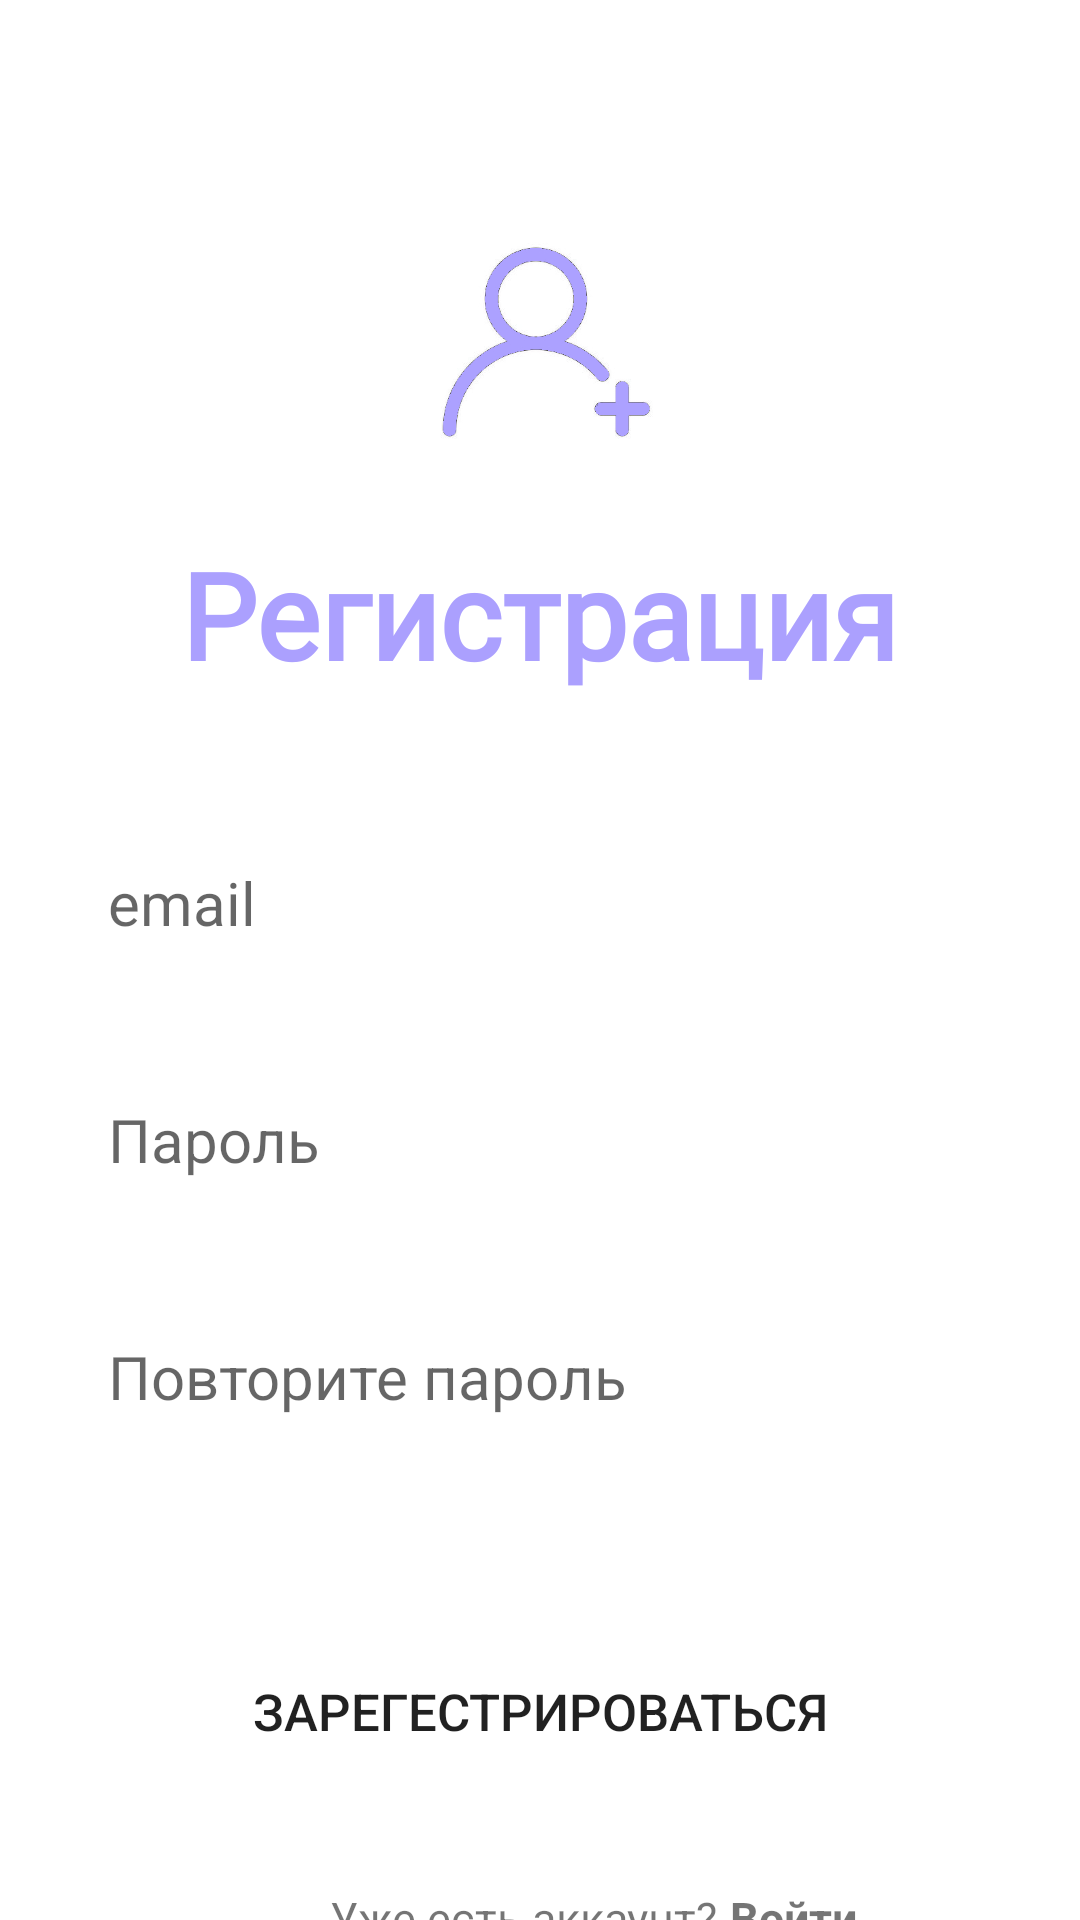

Point at icon controls on the screen. Image size 1080w x 1920h, points as [x,y].
signup: [546,342]
